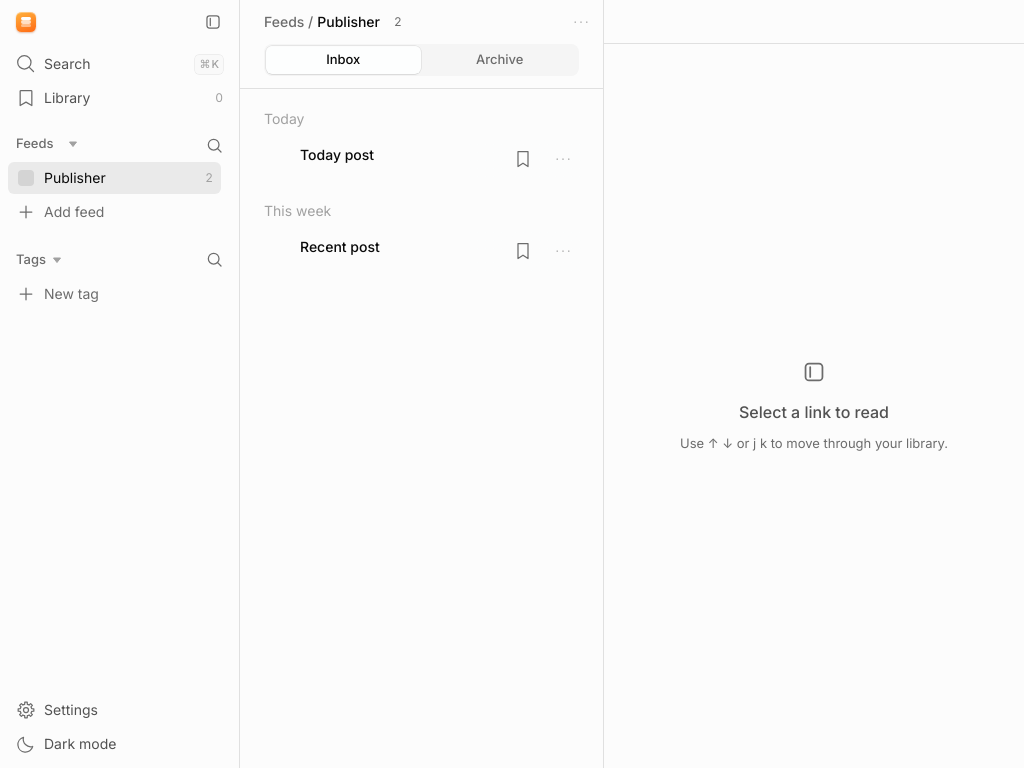
Scenario: saves from a row, fills bookmarks in the row and Reader, updates Home and opens its copy
Expected: the text "Today post" is shown, [300, 146, 374, 162]
Click the button named "Save to Home" next to "Today post".
click(523, 158)  # box [503, 138, 543, 178]
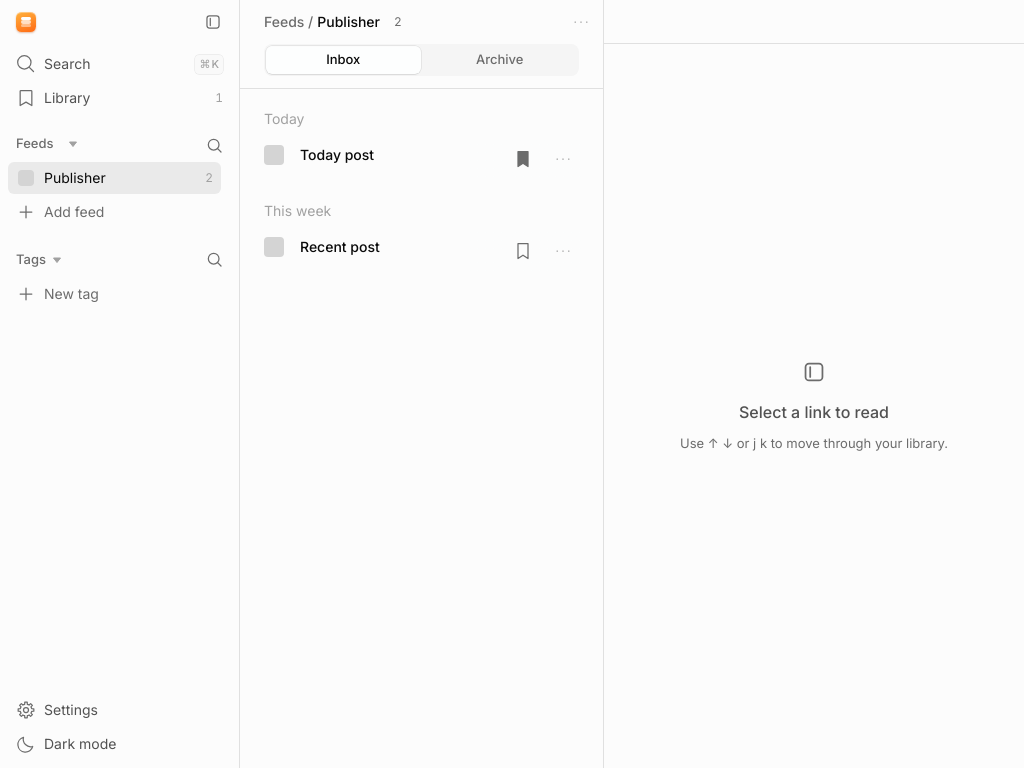
Expected: the element titled "Saved to Home" is shown, [563, 144, 583, 164]
Click the text "Today post".
click(337, 154)  # box [300, 146, 374, 162]
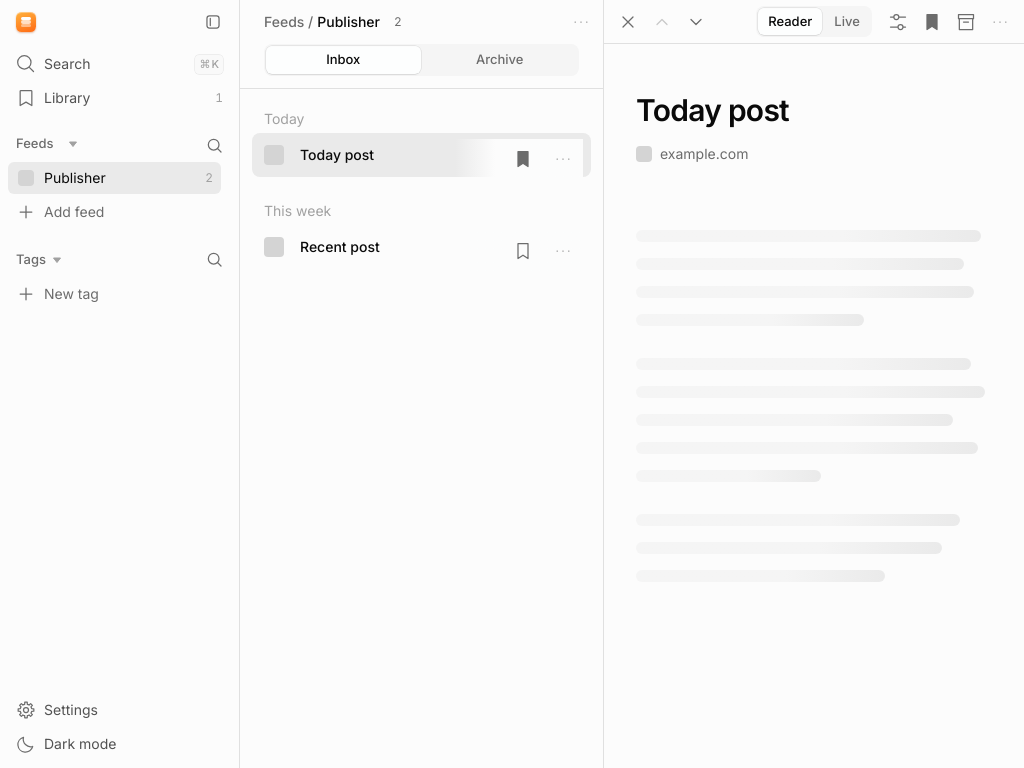
Expected: the 1st link named "Open saved" is shown
Click the 1st link named "Open saved".
click(932, 22)  # box [922, 12, 942, 32]
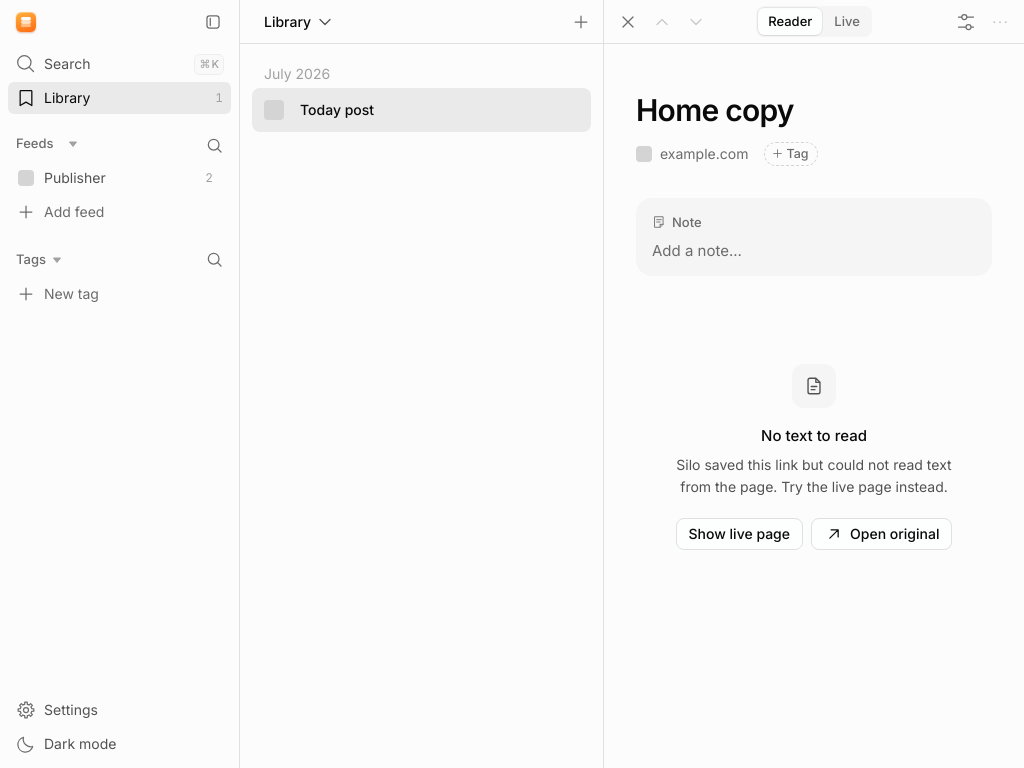
Expected: the link "Library 1" is shown, [8, 82, 231, 114]
Expected: the heading "Home copy" is shown, [636, 92, 794, 128]
